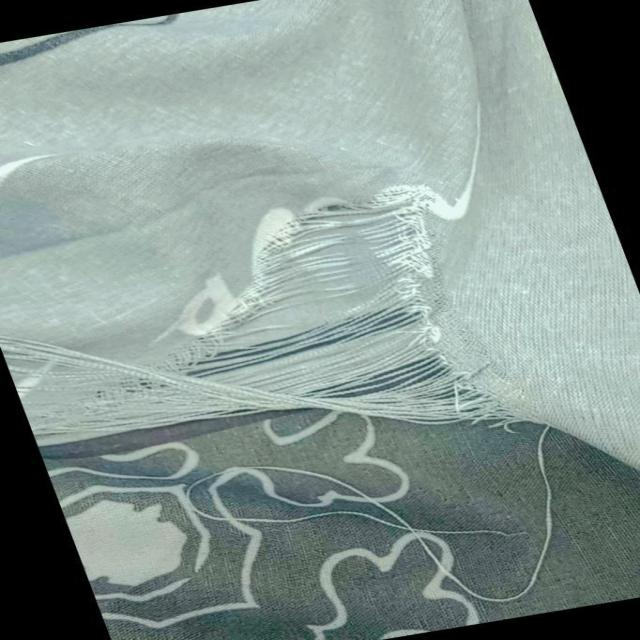cut: (86, 165, 526, 478)
